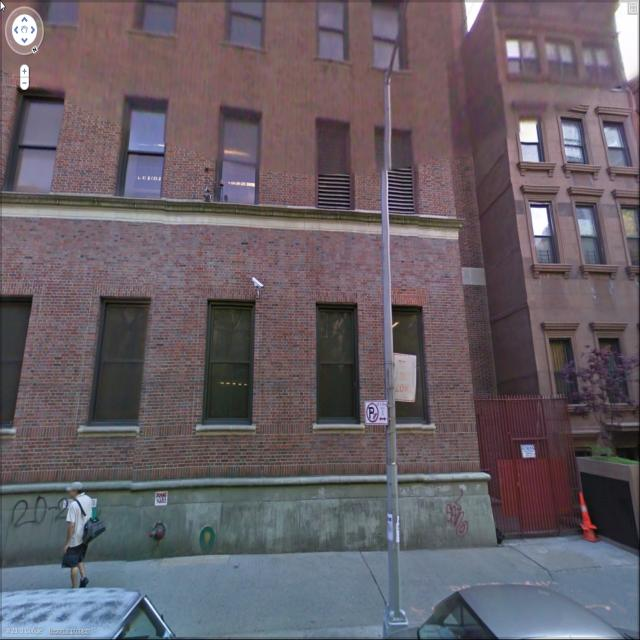b_1: (10, 1, 514, 517), (475, 5, 639, 436)
